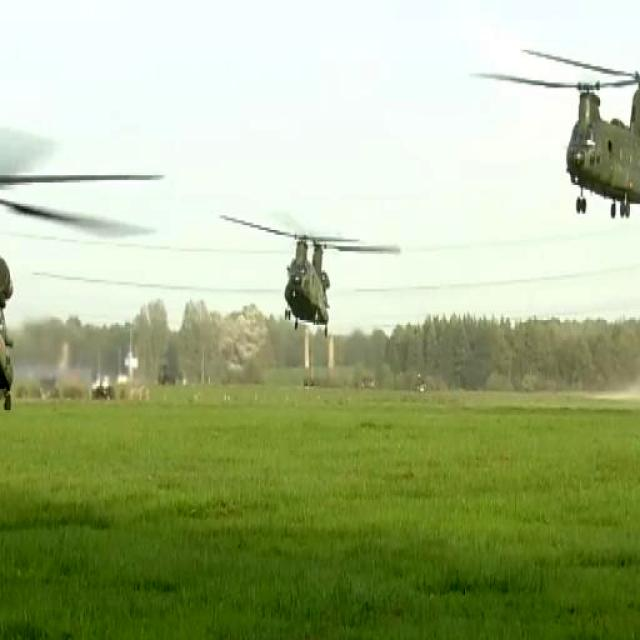drone: (0, 92, 175, 436), (459, 21, 640, 238), (215, 202, 409, 341)
